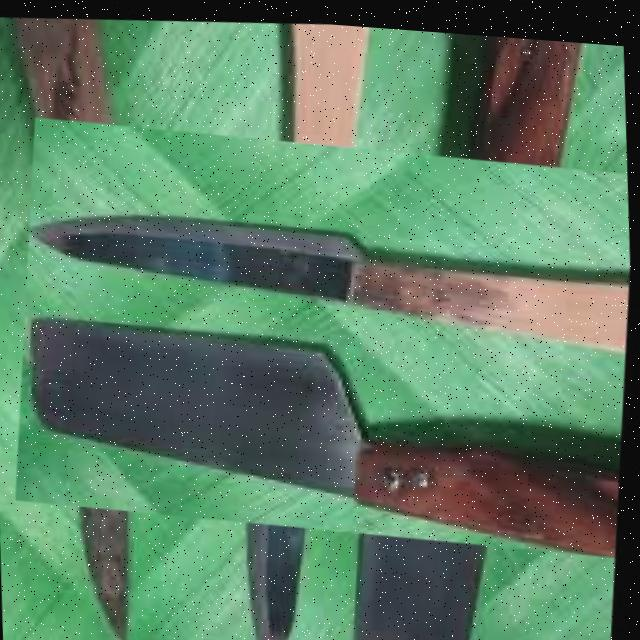knife: (26, 283, 627, 580), (28, 179, 630, 371)
